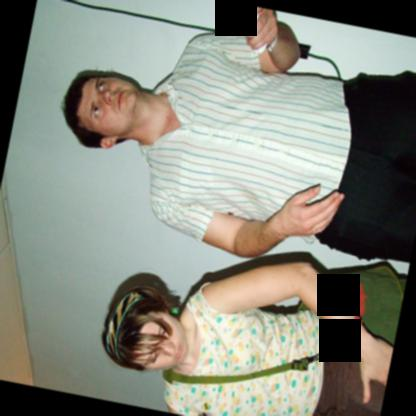handbag: (160, 257, 405, 380)
